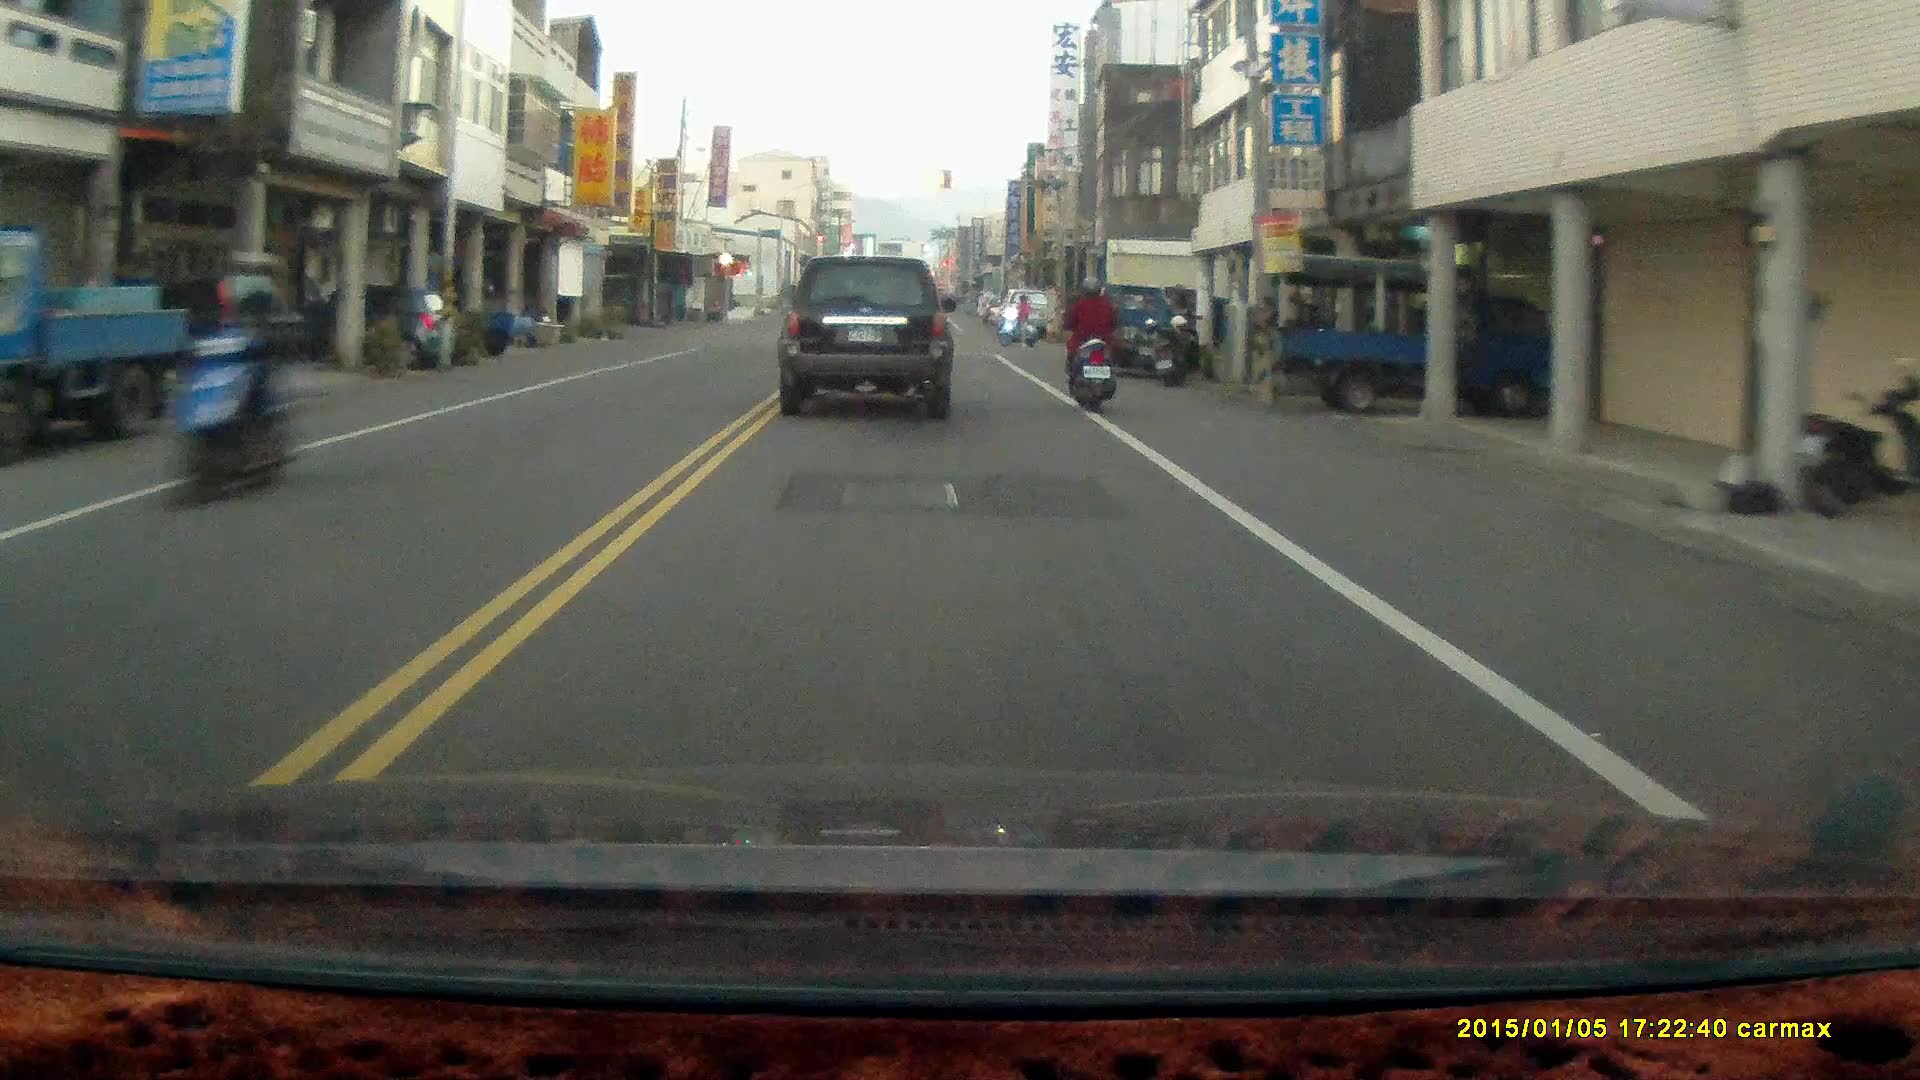rider: (151, 244, 309, 507), (1064, 276, 1118, 414), (996, 292, 1036, 344)
vehicle: (1276, 260, 1584, 422), (1, 227, 196, 461), (777, 256, 956, 426), (290, 282, 457, 373), (1078, 284, 1187, 381)
